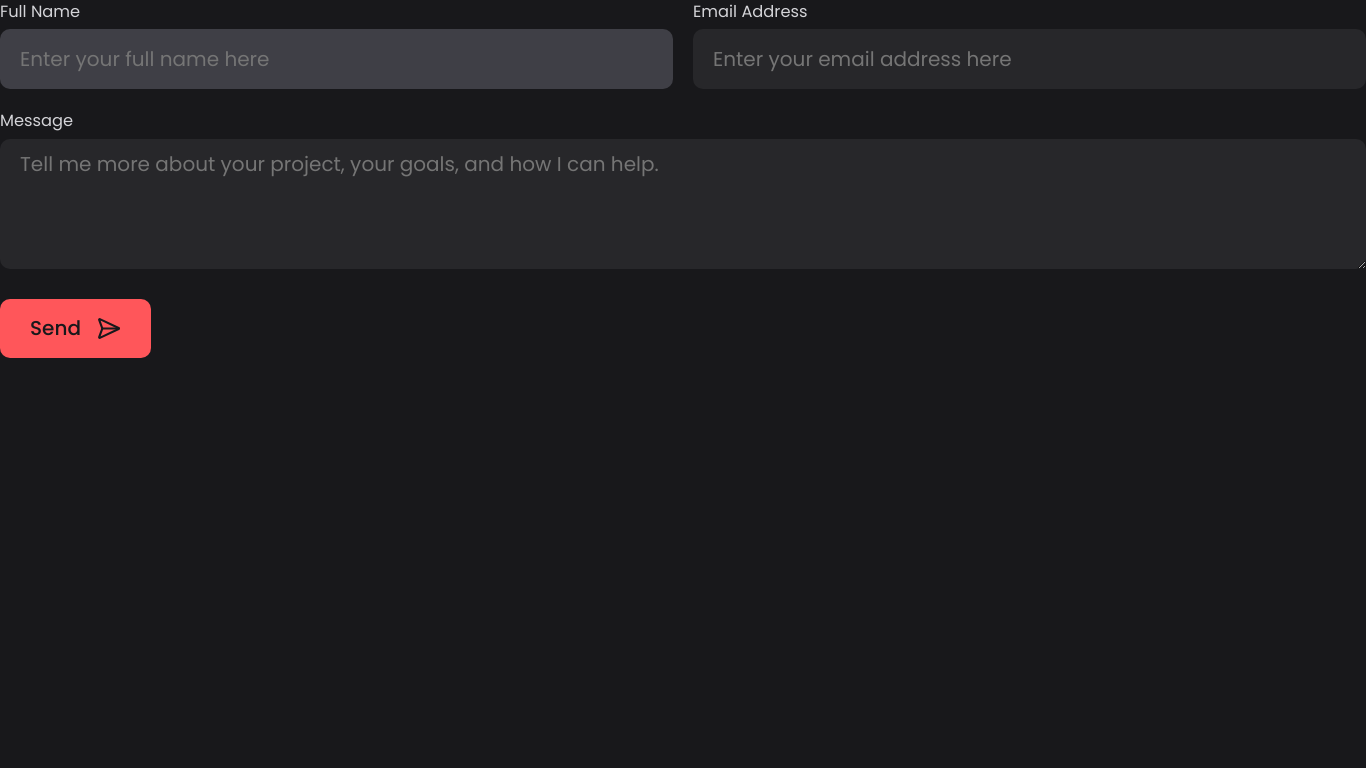
Test: <MessageForm/> › shows success banner after successful submission
Type "John Doe" into the field labelled "Full Name" at (336, 59), box [0, 29, 673, 89]
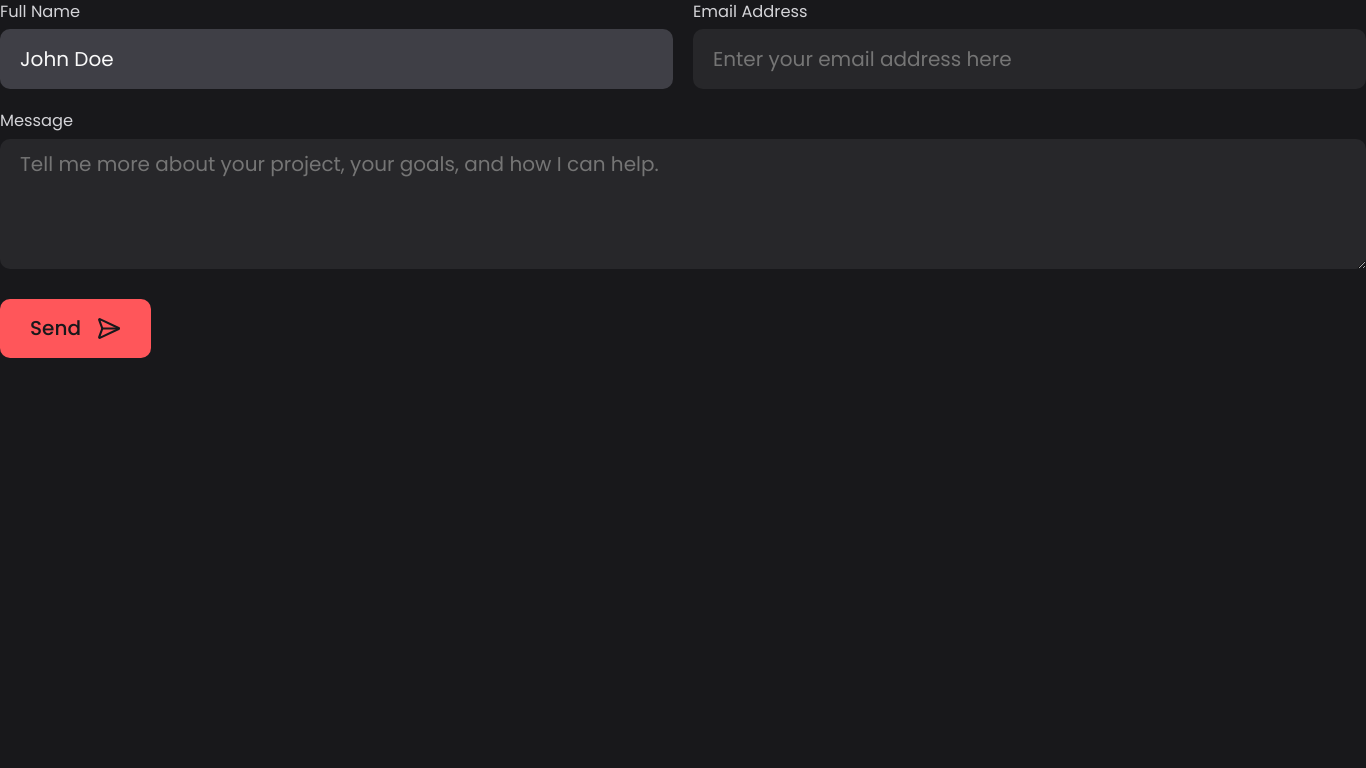
Type "john@example.com" into the field labelled "Email Address" at (1030, 59), box [693, 29, 1365, 89]
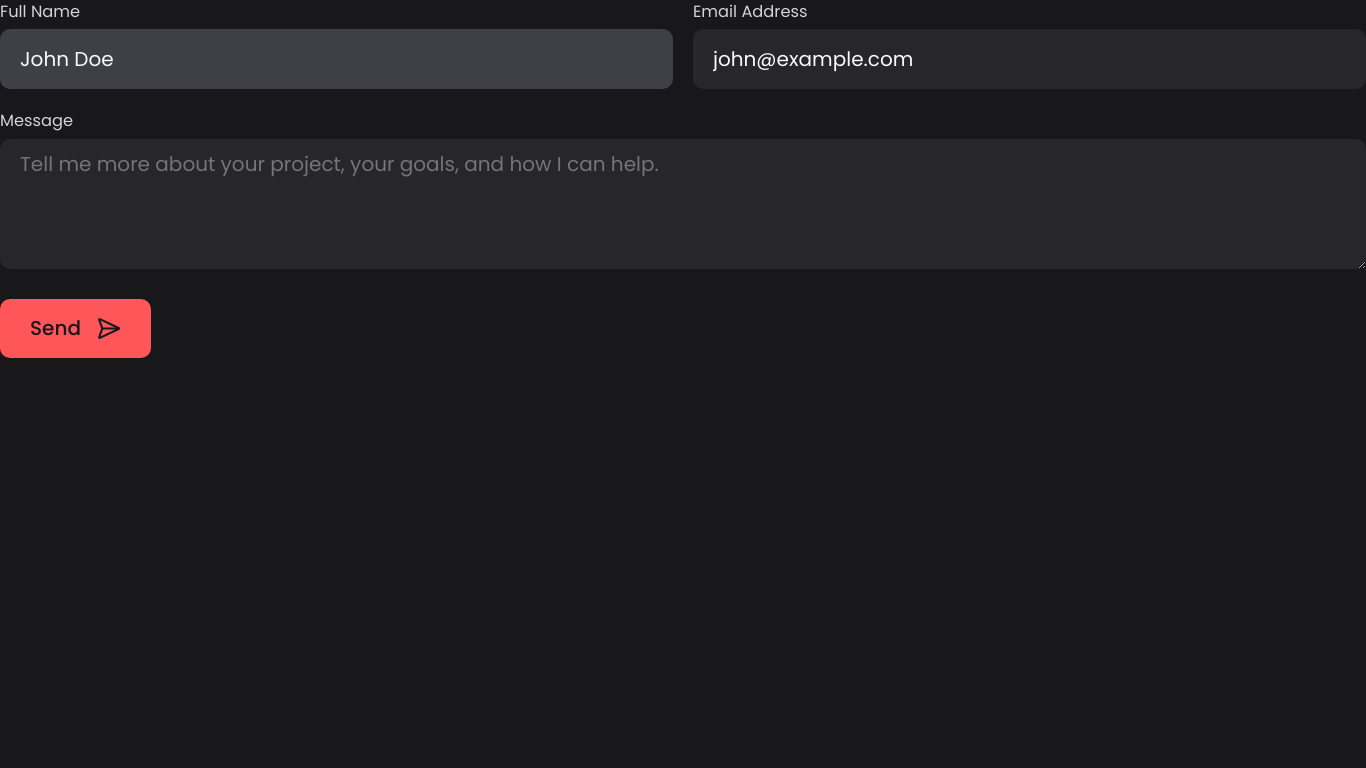
Replace the text in the text box labelled "Message" with "Hello, world!" at (683, 204), box [0, 139, 1365, 269]
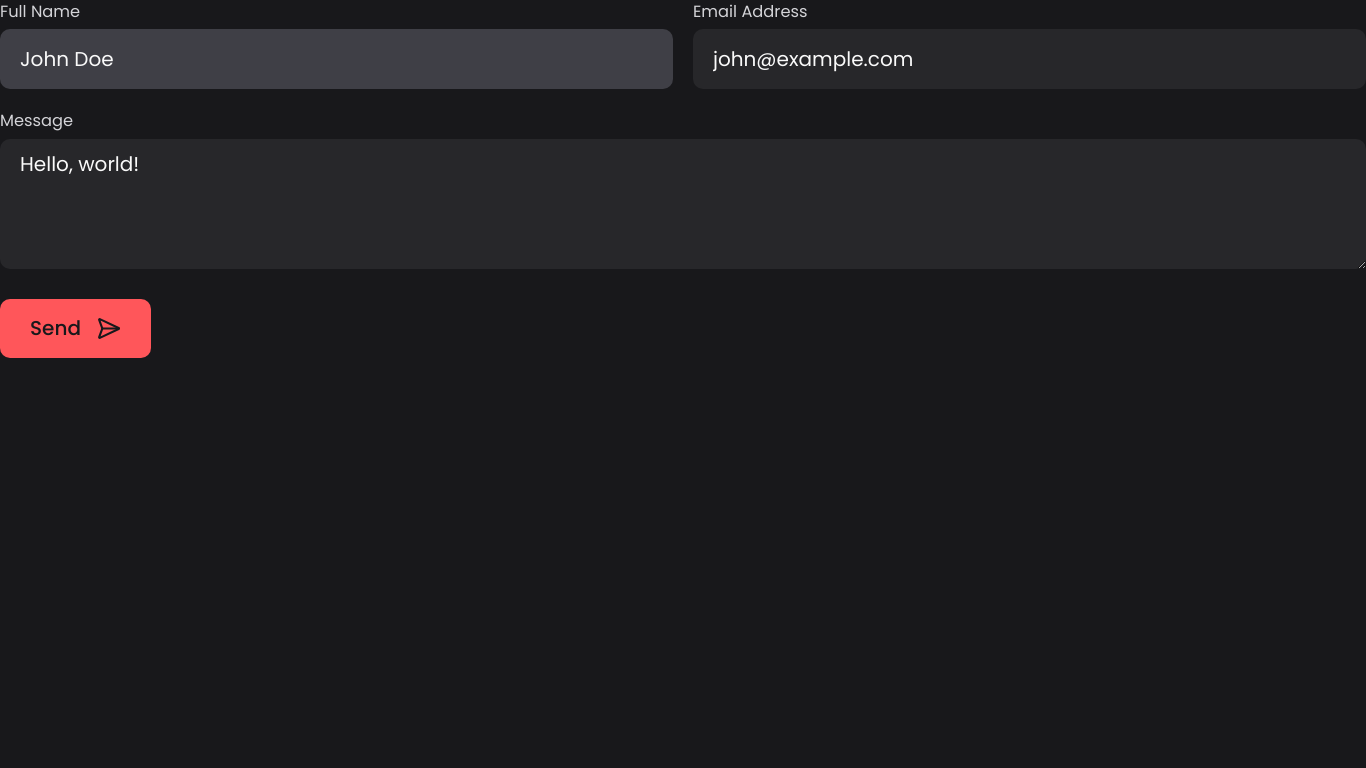
Click the button "Send" at (76, 328), box [0, 299, 151, 358]
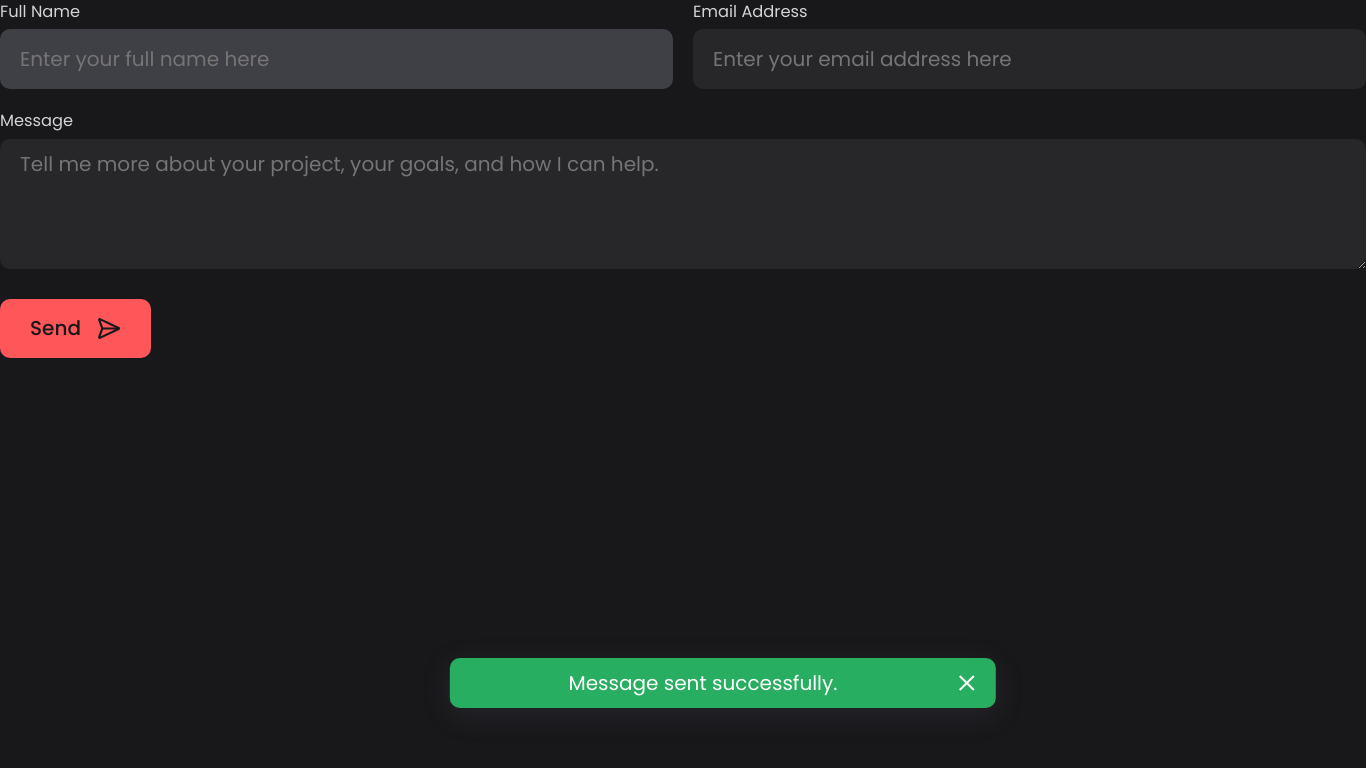
Expected: the dialog with test id "banner" is shown, [450, 658, 996, 708]
Expected: the dialog with test id "banner" shows "Message sent successfully", [568, 669, 838, 697]
